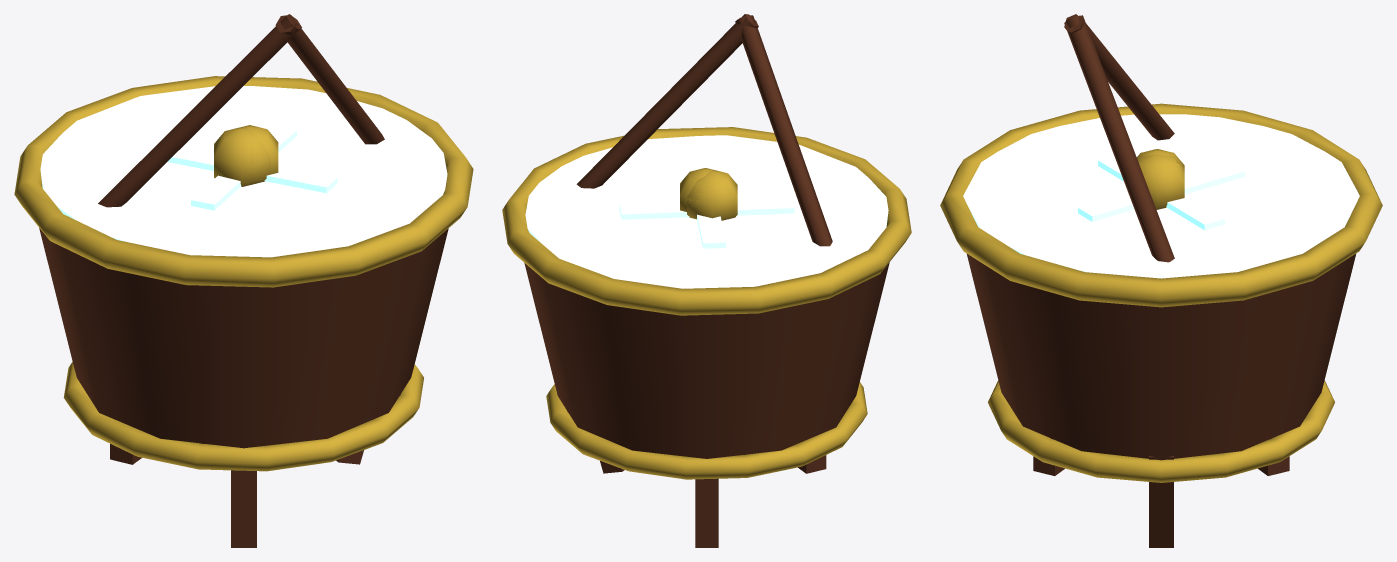
The model's file is war-drum.glb.
The picture shows the model from 3 angles, left to right: view 1: azimuth 30°, elevation 25°; view 2: azimuth 150°, elevation 25°; view 3: azimuth 270°, elevation 25°; orthographic projection. The views are drawn at different scales.
Parts seen in each view (by area): view 1: Mesh_Shell, Mesh_DrumSkin, Mesh_RimTop, Mesh_RimLow, Mesh_Beater-1, Mesh_Beater1, Mesh_BeaterHead-1, Mesh_Leg2, Mesh_Rune2, Mesh_Rune, Mesh_BeaterHead1; view 2: Mesh_Shell, Mesh_DrumSkin, Mesh_RimTop, Mesh_RimLow, Mesh_Beater-1, Mesh_Beater1, Mesh_BeaterHead-1, Mesh_Rune, Mesh_Leg1, Mesh_BeaterHead1, Mesh_Rune2; view 3: Mesh_Shell, Mesh_DrumSkin, Mesh_RimTop, Mesh_RimLow, Mesh_Beater1, Mesh_Beater-1, Mesh_Rune2, Mesh_BeaterHead1, Mesh_Leg0, Mesh_Rune.
Boxes of the visible parts, x1,y1,x2,y2 form: Mesh_Shell: (39,228,448,448); Mesh_DrumSkin: (40,86,447,257); Mesh_RimTop: (14,76,473,287); Mesh_RimLow: (63,362,423,471); Mesh_Beater-1: (98,14,301,207); Mesh_Beater1: (275,14,384,144); Mesh_BeaterHead-1: (214,128,270,186); Mesh_Leg2: (231,470,256,547); Mesh_Rune2: (167,147,337,193); Mesh_Rune: (191,125,296,210); Mesh_BeaterHead1: (234,125,278,184); Mesh_Shell: (524,262,889,458); Mesh_DrumSkin: (525,135,888,288); Mesh_RimTop: (502,127,911,315); Mesh_RimLow: (546,382,867,479); Mesh_Beater-1: (735,15,832,246); Mesh_Beater1: (576,14,758,188); Mesh_BeaterHead-1: (687,169,737,220); Mesh_Rune: (619,198,794,219); Mesh_Leg1: (695,478,718,547); Mesh_BeaterHead1: (680,168,712,214); Mesh_Rune2: (688,170,725,248); Mesh_Shell: (967,254,1355,460); Mesh_DrumSkin: (963,114,1359,278); Mesh_RimTop: (940,103,1382,307); Mesh_RimLow: (988,380,1334,482); Mesh_Beater1: (1064,15,1174,262); Mesh_Beater-1: (1064,14,1174,140); Mesh_Rune2: (1078,163,1244,221); Mesh_BeaterHead1: (1138,154,1184,209); Mesh_Leg0: (1149,456,1173,547); Mesh_Rune: (1098,155,1224,230).
Bounding box in the file's own units: 2.14 × 2.57 × 2.14.
